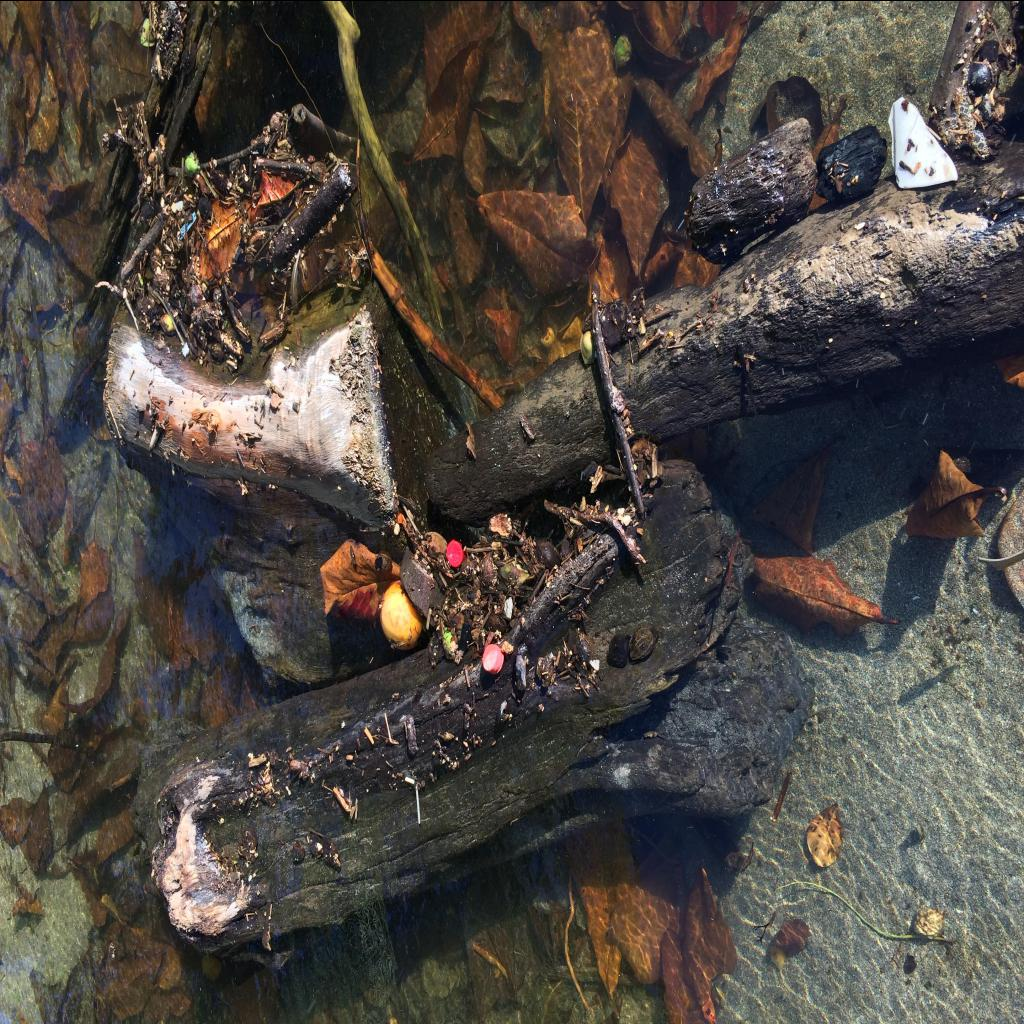Other plastic bottle: (888, 96, 958, 188), (179, 212, 197, 240)
Plastic bottle cap: (483, 643, 504, 673), (446, 539, 466, 566)
